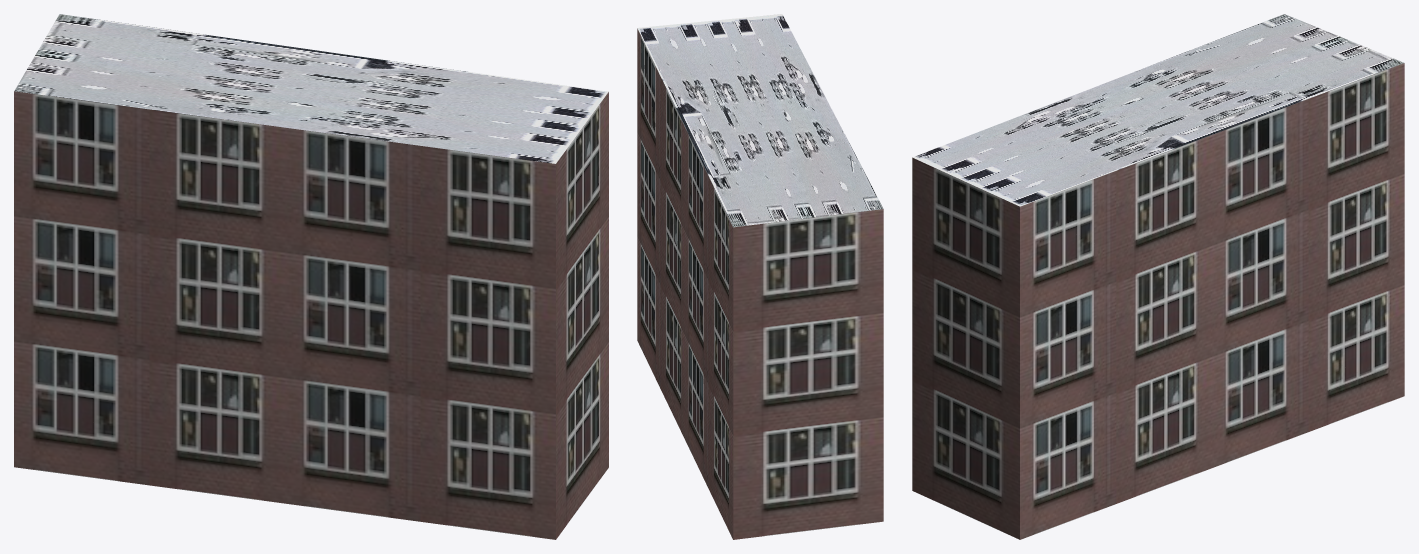
File: ResTex__1273.fbx
3 renders of one model, left to right at view 1: azimuth 30°, elevation 25°; view 2: azimuth 150°, elevation 25°; view 3: azimuth 270°, elevation 25°, orthographic. The views are drawn at different scales.
Visible parts, largest first — view 1: CityEngineMaterial_12_m, CityEngineMaterial_8_m; view 2: CityEngineMaterial_12_m, CityEngineMaterial_8_m; view 3: CityEngineMaterial_12_m, CityEngineMaterial_8_m.
Boxes of the visible parts, box(x1,y1,x2,y2) form: CityEngineMaterial_12_m: box(14, 91, 608, 539); CityEngineMaterial_8_m: box(14, 14, 608, 163); CityEngineMaterial_12_m: box(637, 28, 883, 539); CityEngineMaterial_8_m: box(637, 14, 883, 227); CityEngineMaterial_12_m: box(912, 63, 1404, 539); CityEngineMaterial_8_m: box(912, 14, 1403, 206).
Bounding box in the file's own units: 11.16 × 9 × 12.06.
2 materials, 2 textured.
